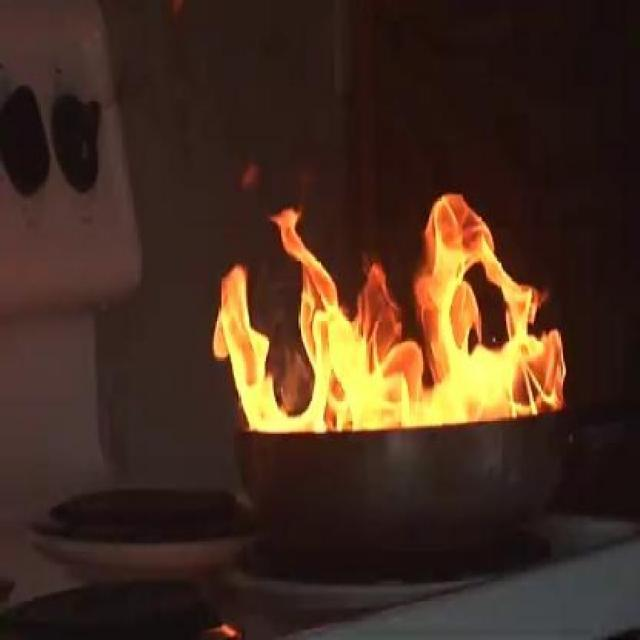fire: (202, 190, 576, 426)
